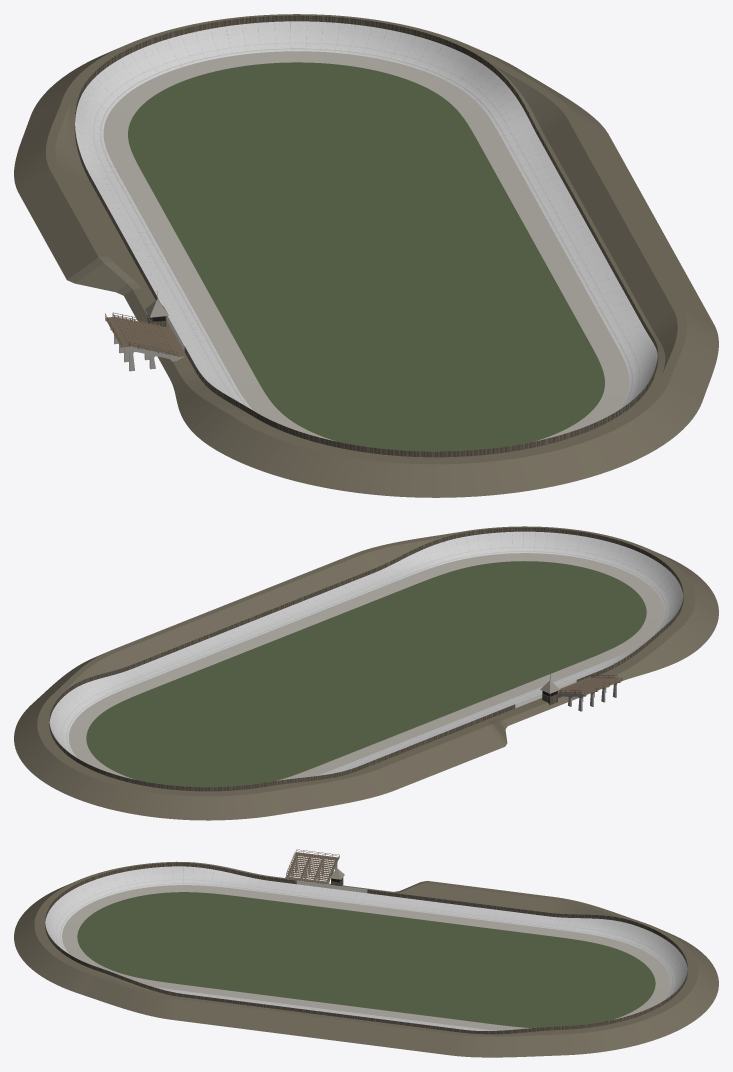
The model's file is rennbahn.glb.
3 renders of one model, top to bottom at view 1: azimuth 30°, elevation 25°; view 2: azimuth 150°, elevation 25°; view 3: azimuth 270°, elevation 25°, orthographic. The views are drawn at different scales.
Visible parts, largest first — view 1: innenfeld, wall, bahn, zaun, holzbank; view 2: innenfeld, wall, bahn, zaun, holzbank; view 3: innenfeld, wall, bahn, zaun, holzbank.
Boxes of the visible parts, x1,y1,x2,y2 form: innenfeld: (103,51,629,451); wall: (14,14,718,497); bahn: (75,21,657,410); zaun: (74,15,658,457); holzbank: (105,312,184,356); innenfeld: (69,553,663,787); wall: (14,526,718,820); bahn: (49,531,683,775); zaun: (49,527,683,791); holzbank: (558,675,622,695); innenfeld: (62,885,670,1030); wall: (14,861,718,1057); bahn: (45,866,687,1030); zaun: (45,862,687,1034); holzbank: (285,849,339,883).
Size of what is drawn, in the model's own units: 148 by 9.55 by 230.
Materials: 11 (3 with a texture image).
